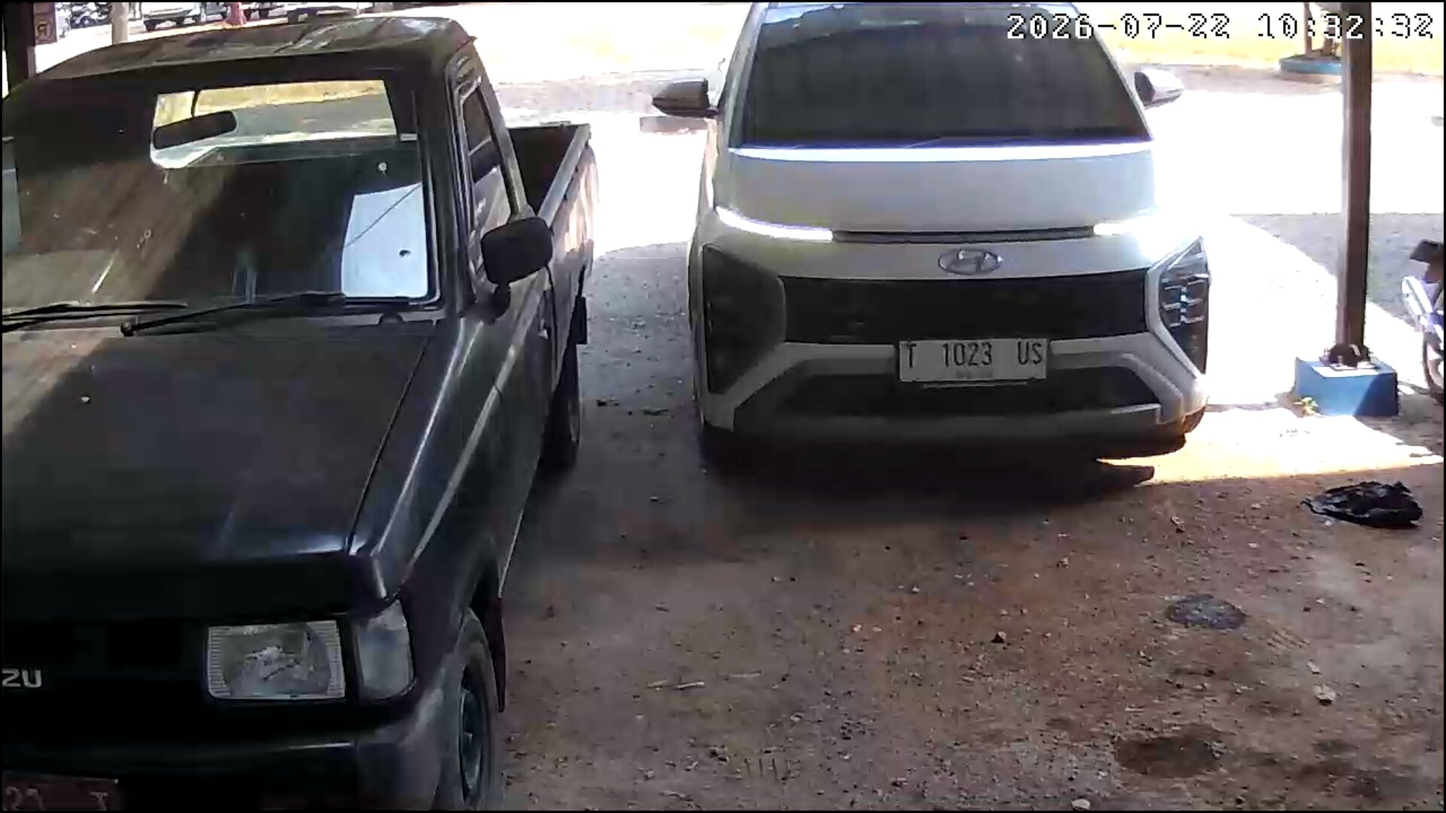plat nomor: (894, 336, 1051, 386)
